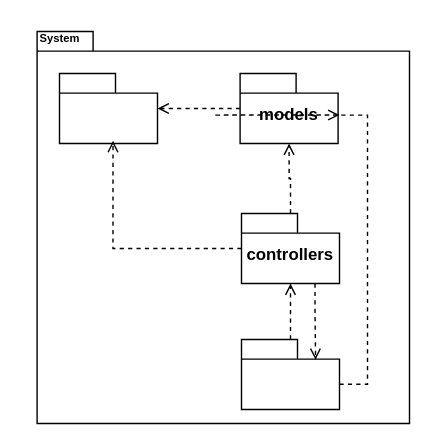
Image size: 434x448. Some labels were removed from this diagram. The centre of each missing label's shape, as x and y in pixels:
"exceptions" goes at pixel 108 108.
"views" goes at pixel 290 374.
